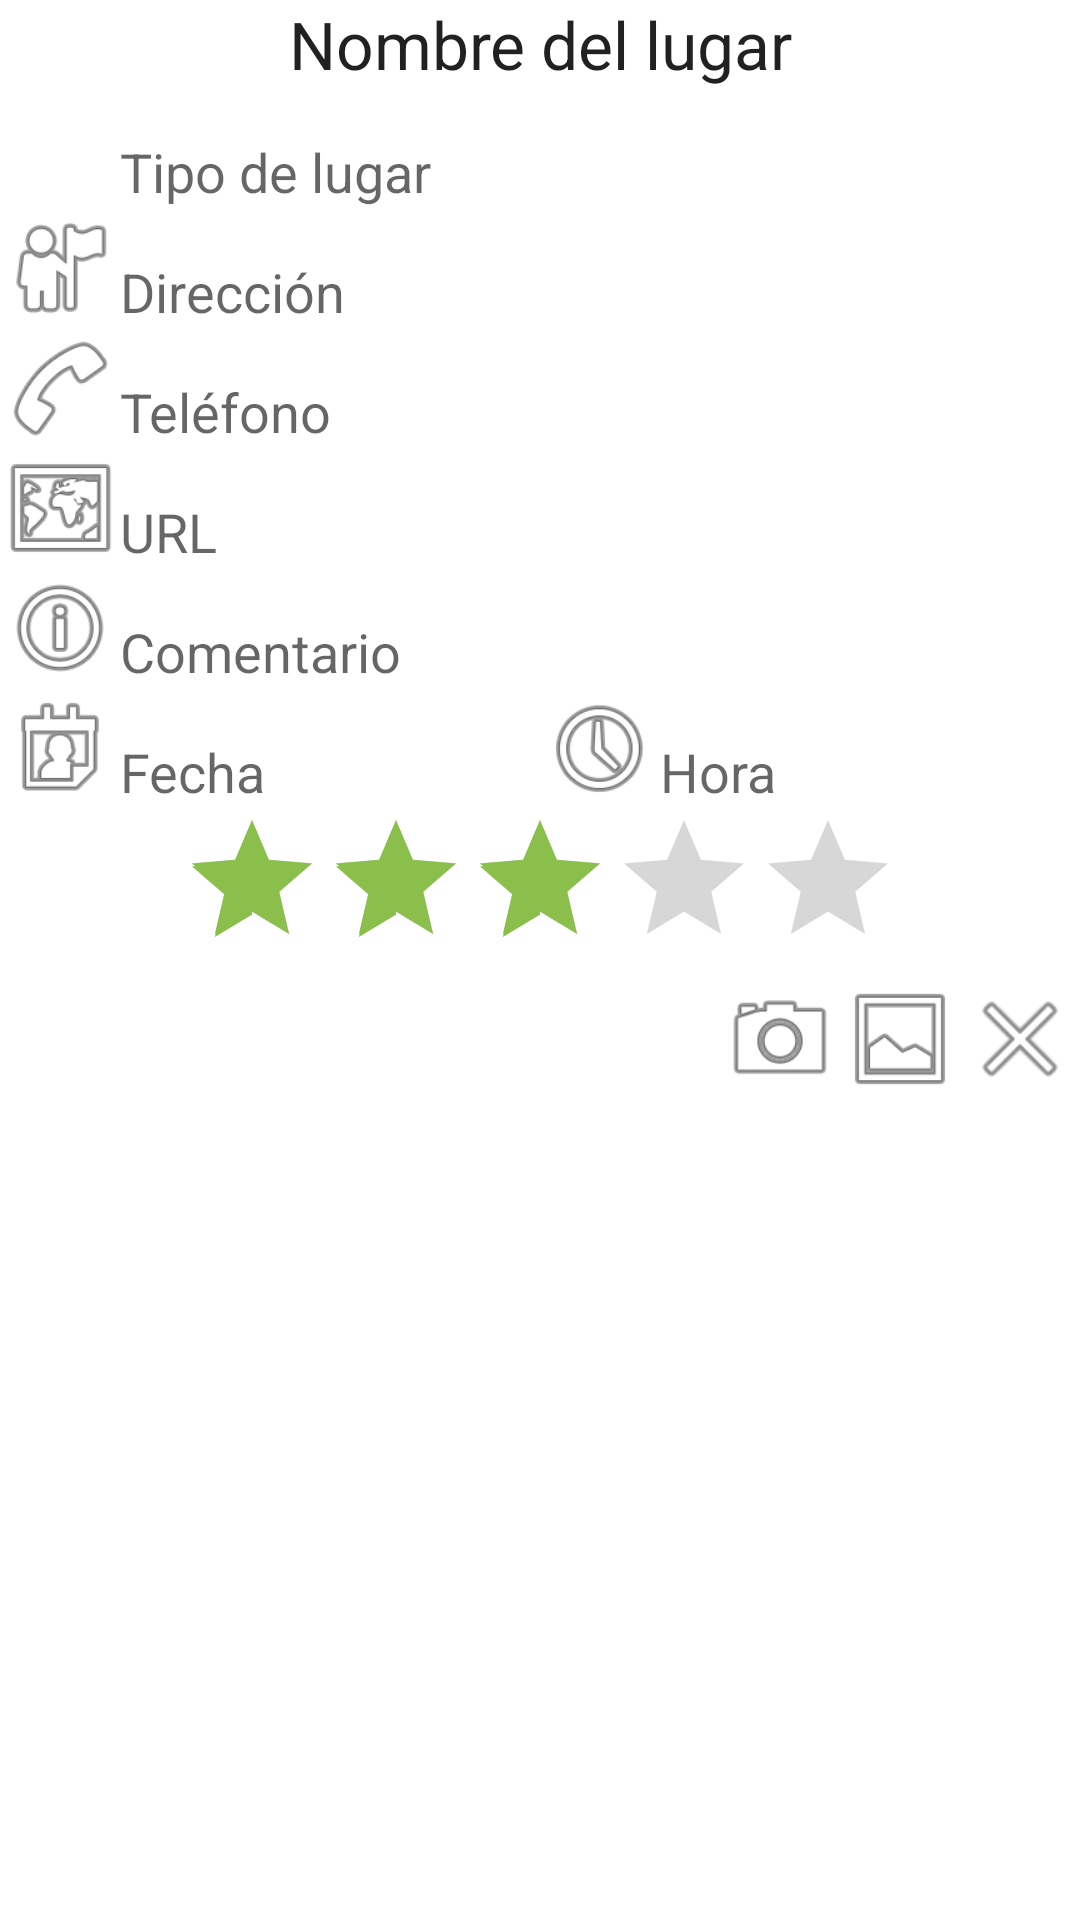

Where to tap for icons on this 1080w x 1920h app screen, as [x,y]:
Eliminar foto: [1020,1039]
